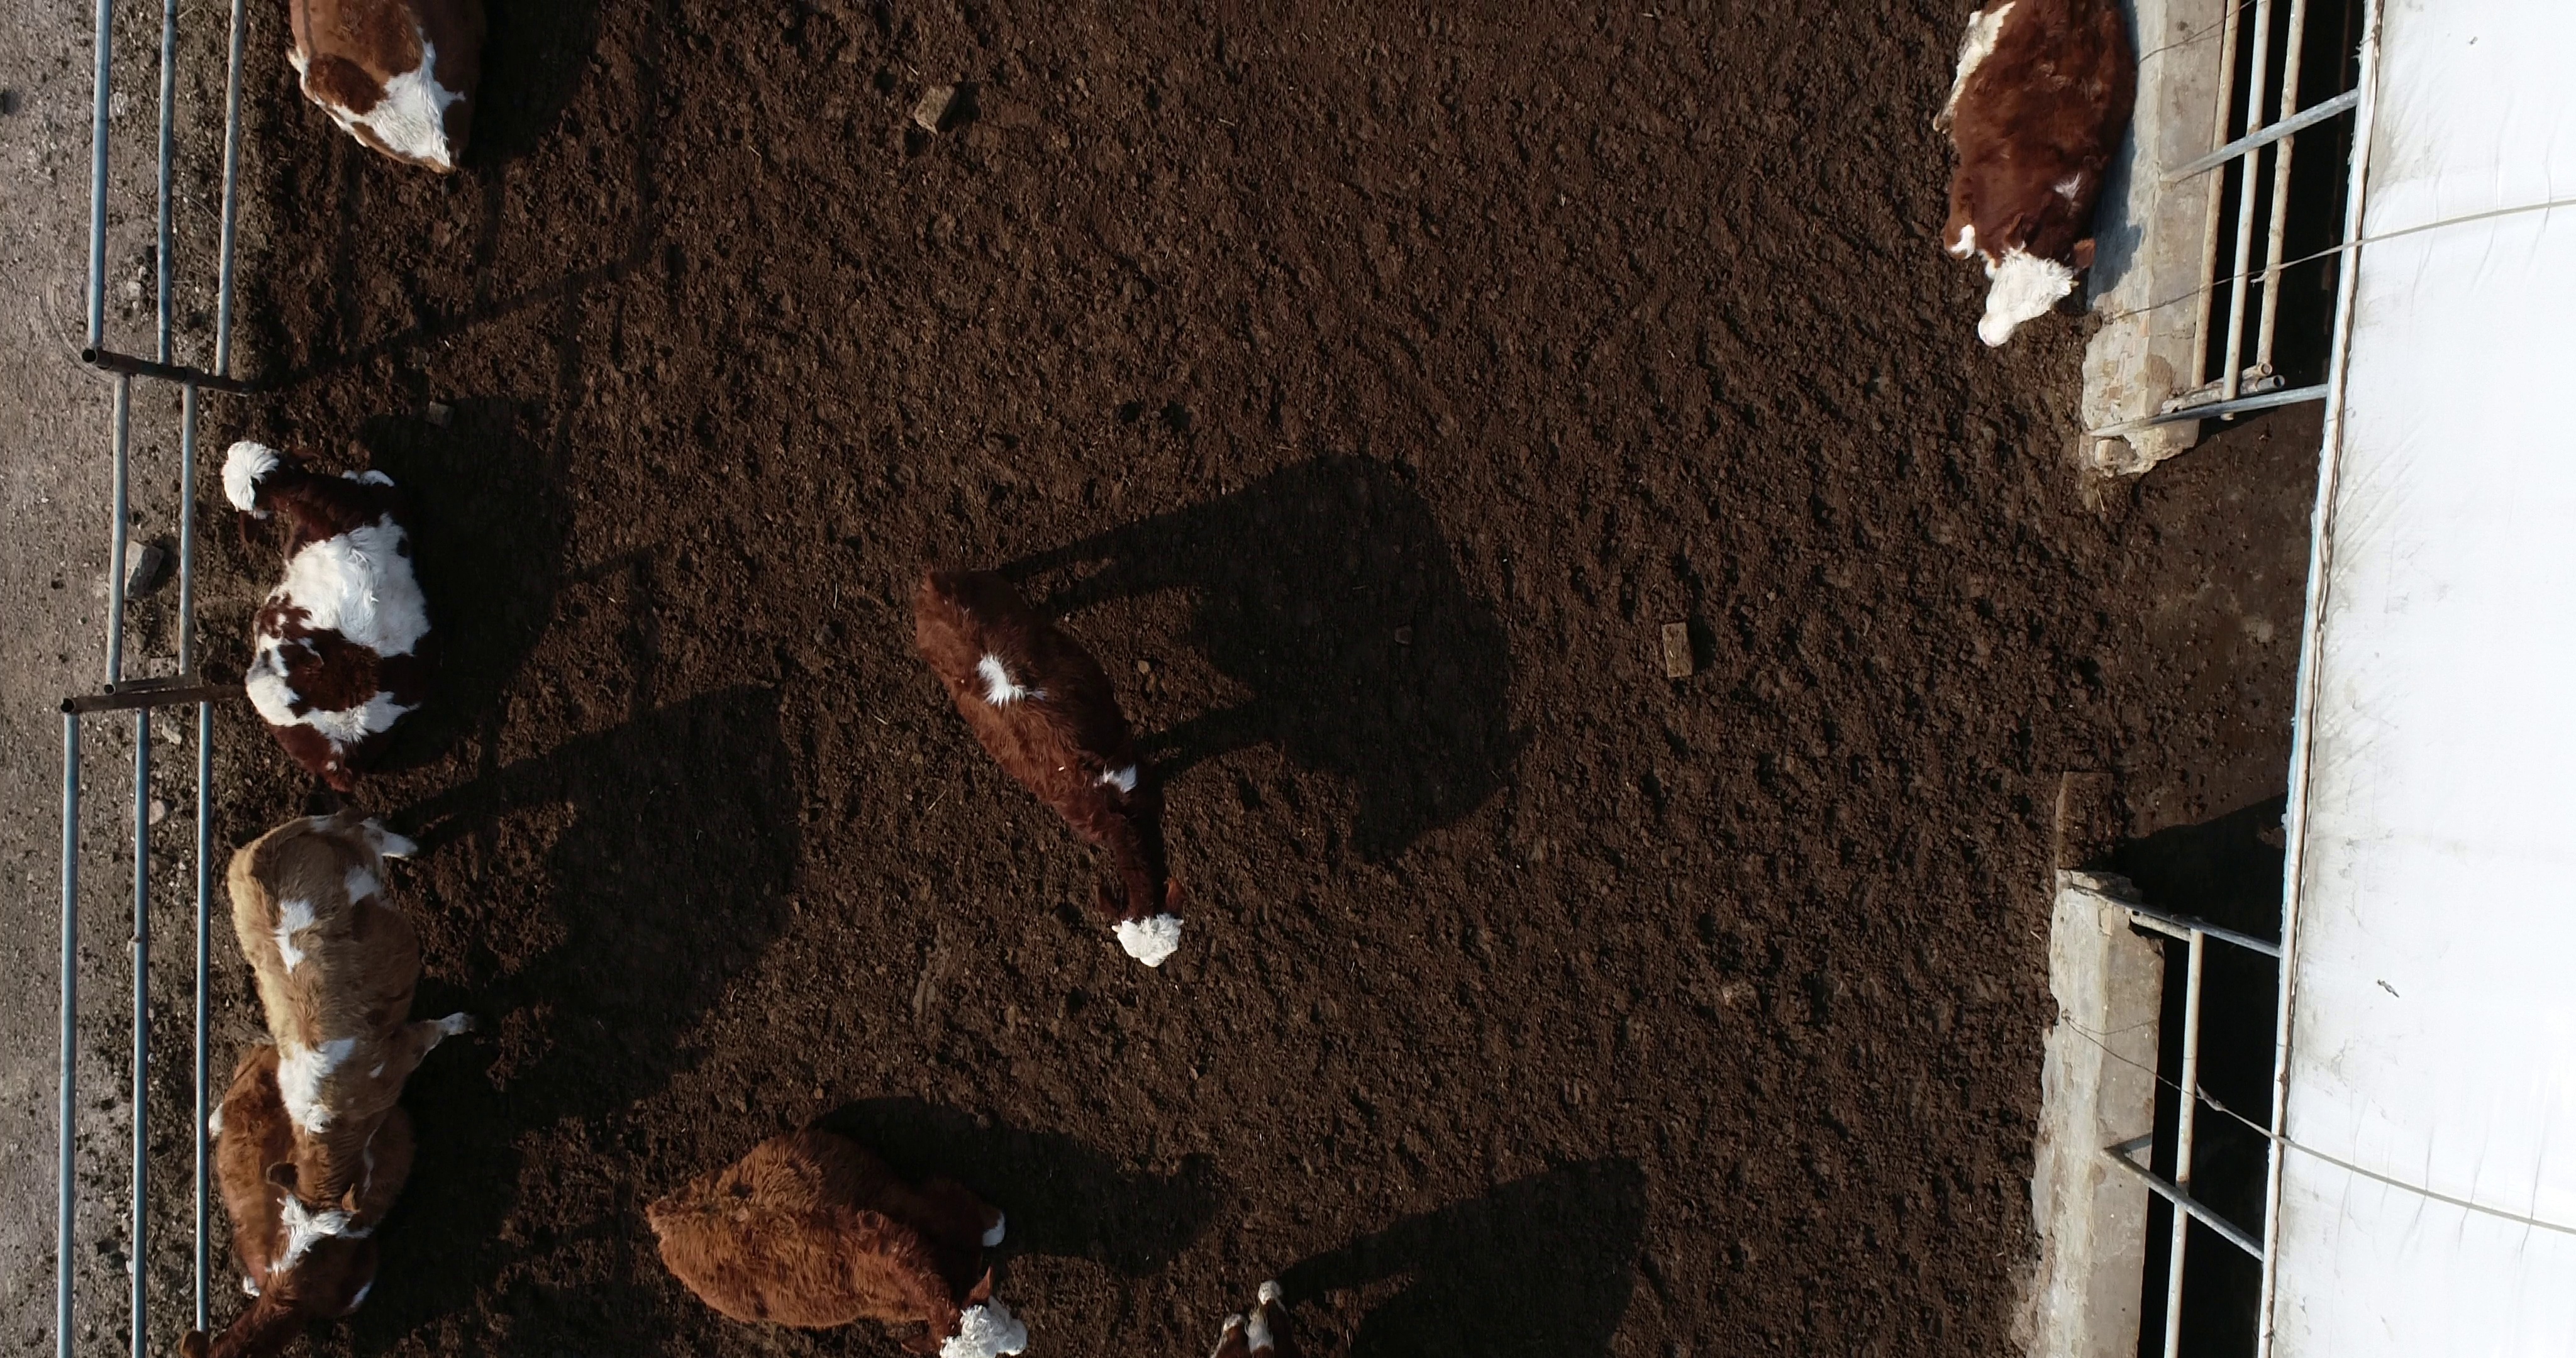cattle: (900, 559, 1194, 971), (216, 809, 486, 1249), (206, 429, 458, 797), (641, 1126, 1036, 1358)
